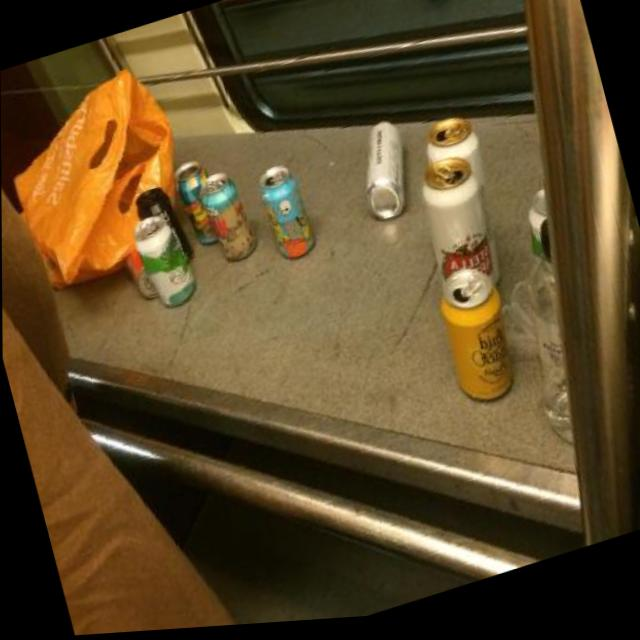metal: (410, 147, 505, 304), (431, 257, 525, 412), (420, 109, 498, 230), (349, 115, 421, 225), (128, 206, 200, 316), (254, 158, 318, 265), (196, 164, 261, 268), (132, 179, 195, 274), (170, 155, 224, 250), (519, 184, 563, 263), (122, 243, 161, 304)
plastic: (1, 57, 201, 299), (496, 209, 611, 455)
